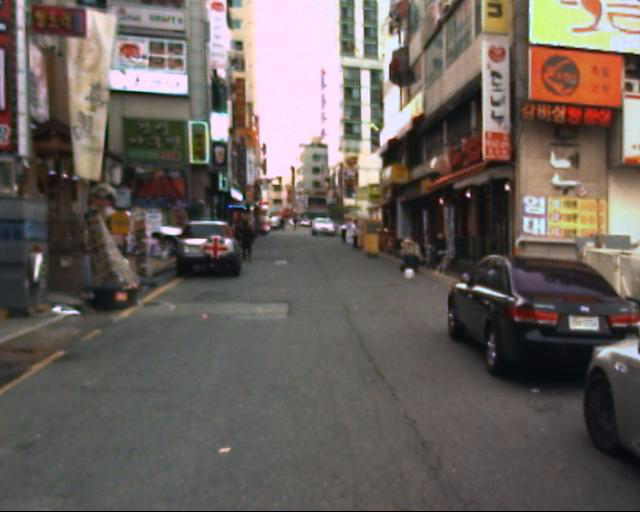person: (229, 207, 257, 275)
